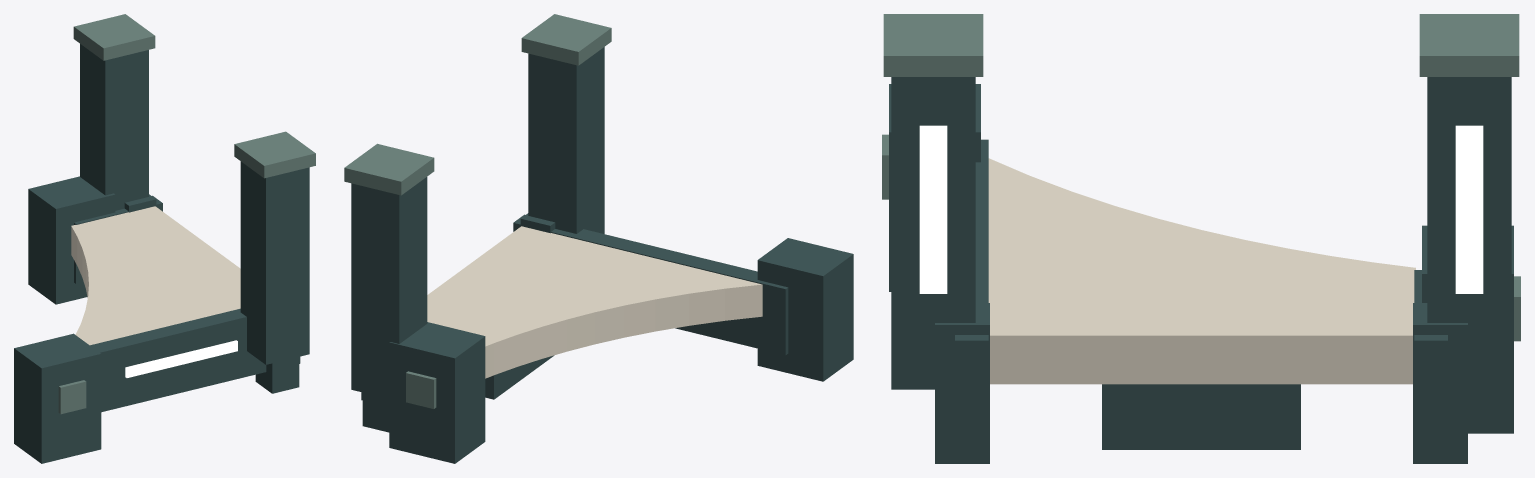
Rendered from Pier_Angled_30_Switch_lab.glb.
The picture shows the model from 3 angles, left to right: view 1: azimuth 30°, elevation 25°; view 2: azimuth 150°, elevation 25°; view 3: azimuth 270°, elevation 25°; orthographic projection. The views are drawn at different scales.
Visible parts, largest first — view 1: Pier_Angled_30_Switch; view 2: Pier_Angled_30_Switch; view 3: Pier_Angled_30_Switch.
Boxes of the visible parts, x1,y1,x2,y2 form: Pier_Angled_30_Switch: [14, 14, 315, 463]; Pier_Angled_30_Switch: [344, 14, 853, 463]; Pier_Angled_30_Switch: [882, 14, 1520, 463].
Size of the model in its own units: 3.51 by 2.95 by 4.17.
